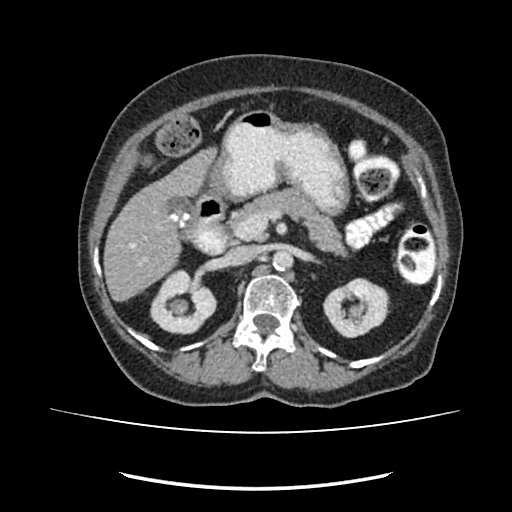aorta: (269, 245, 296, 273)
